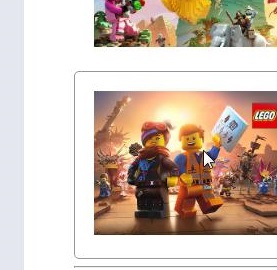cursor: (201, 148, 216, 170)
